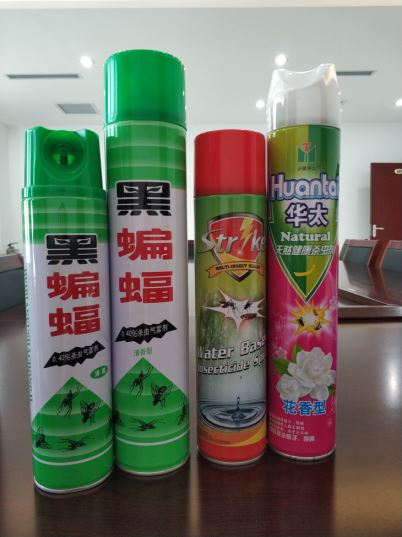Insecticide: (99, 46, 195, 481), (253, 59, 349, 470), (20, 125, 115, 498), (188, 126, 273, 470)
